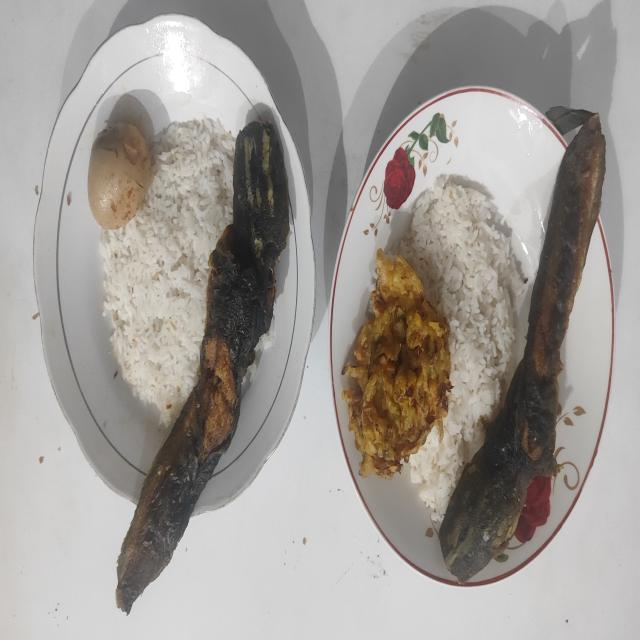nasi_putih: (395, 176, 526, 520), (100, 117, 234, 426)
